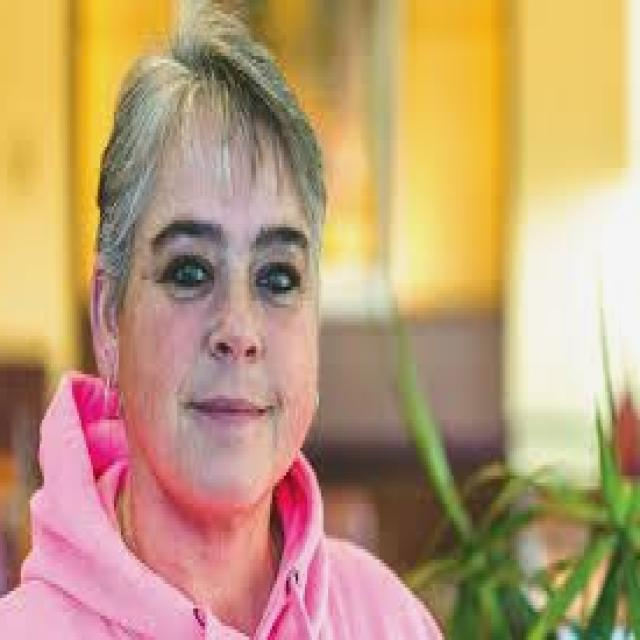normal_face: (91, 35, 330, 527)
